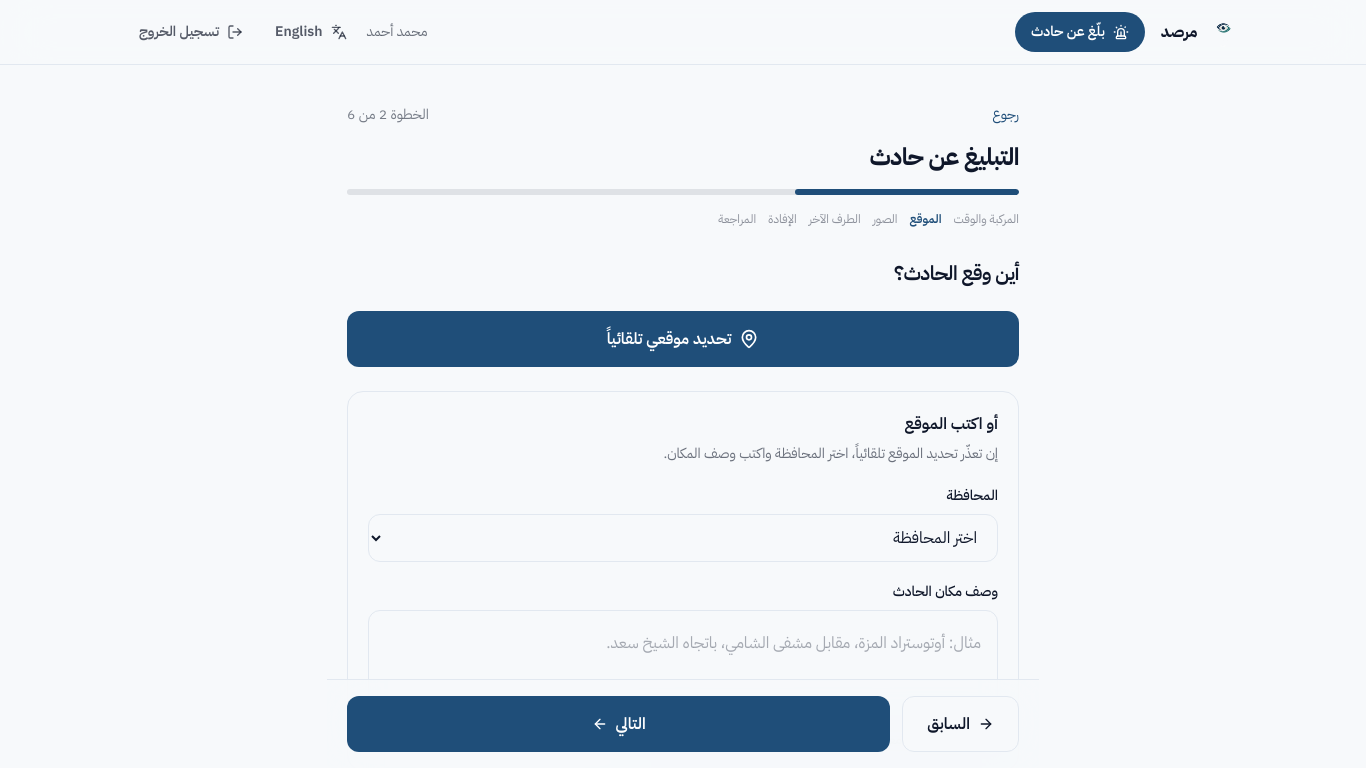
Test: ReportWizard › blocks the location step until a place is chosen
Click the button "التالي": (619, 724) [347,696,890,752]
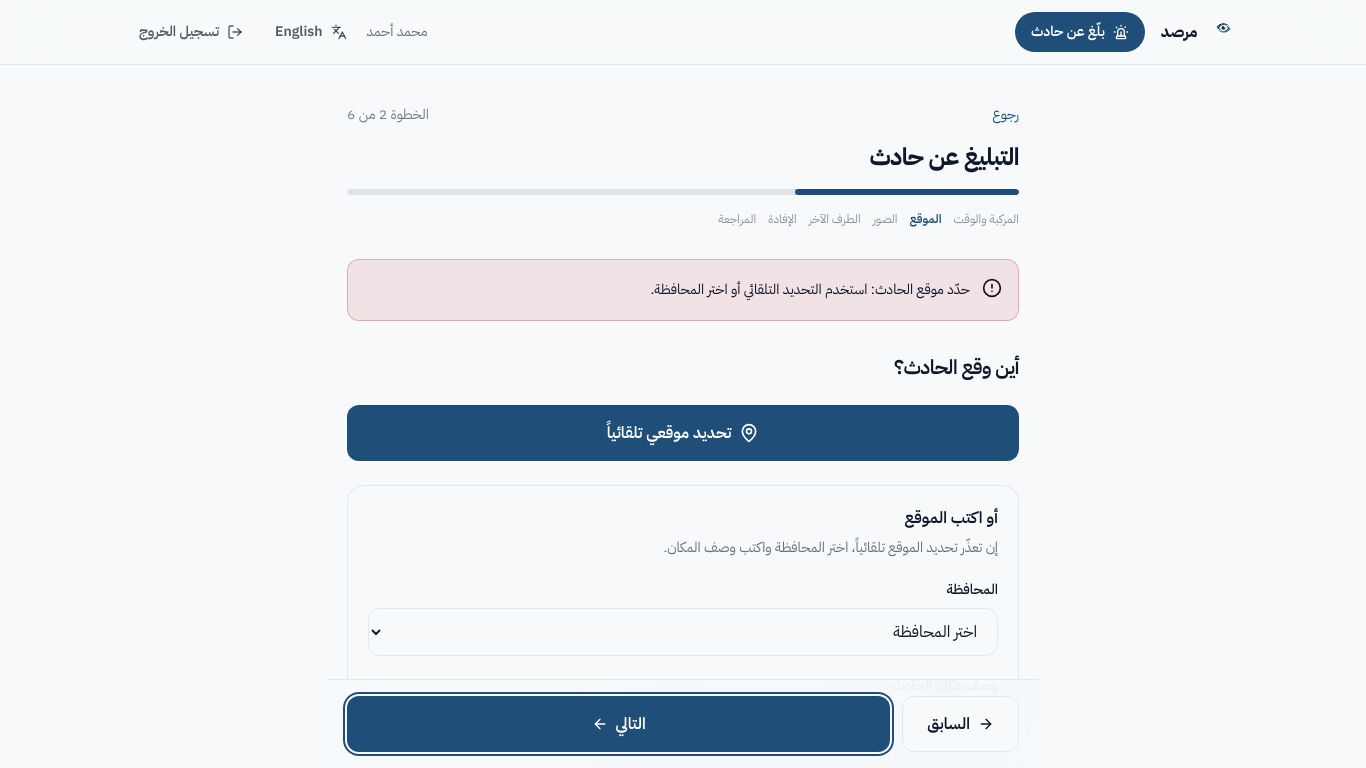
Expected: the text "حدّد موقع الحادث: استخدم التحديد التلقائي أو اختر المحافظة." is shown, [650,276,970,304]
Select "دمشق" in the dropdown labelled "المحافظة": (683, 632) [368,608,998,656]
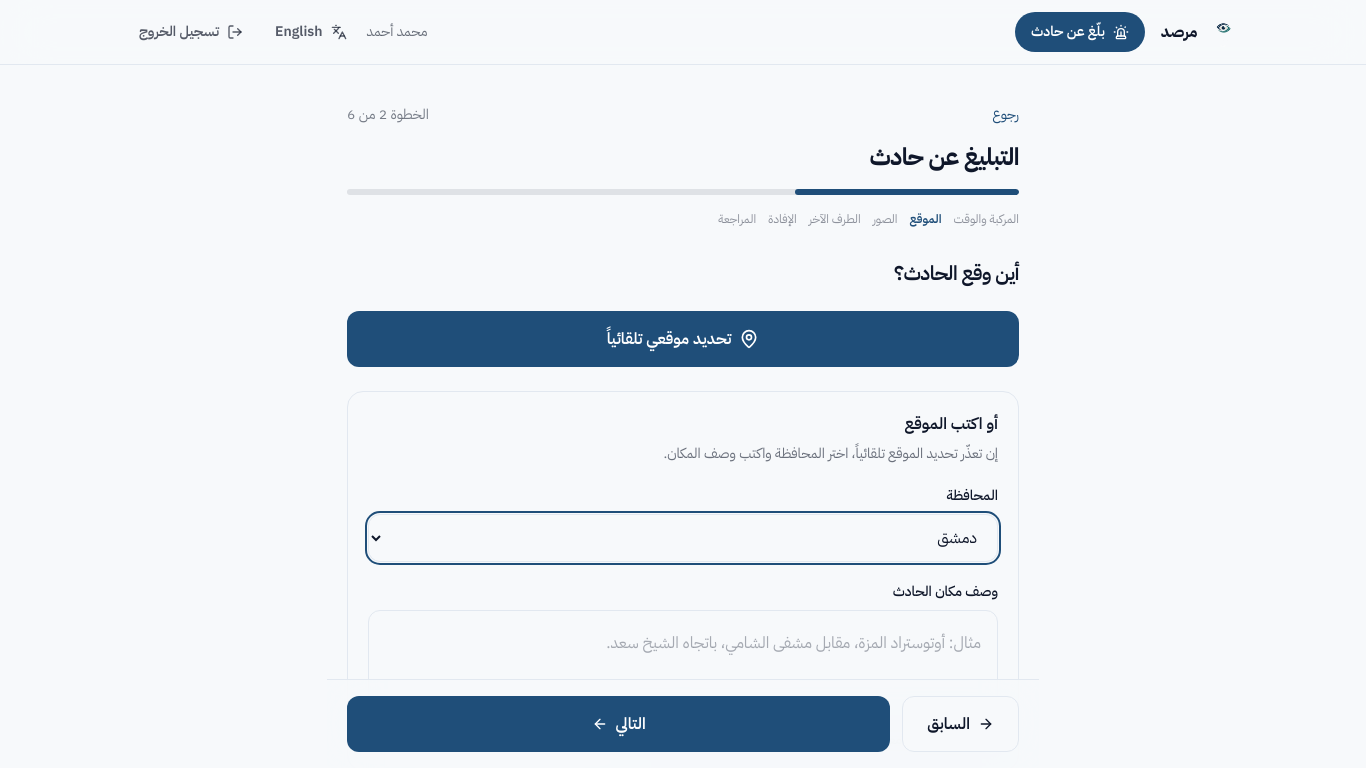
Click the button "التالي": (619, 724) [347,696,890,752]
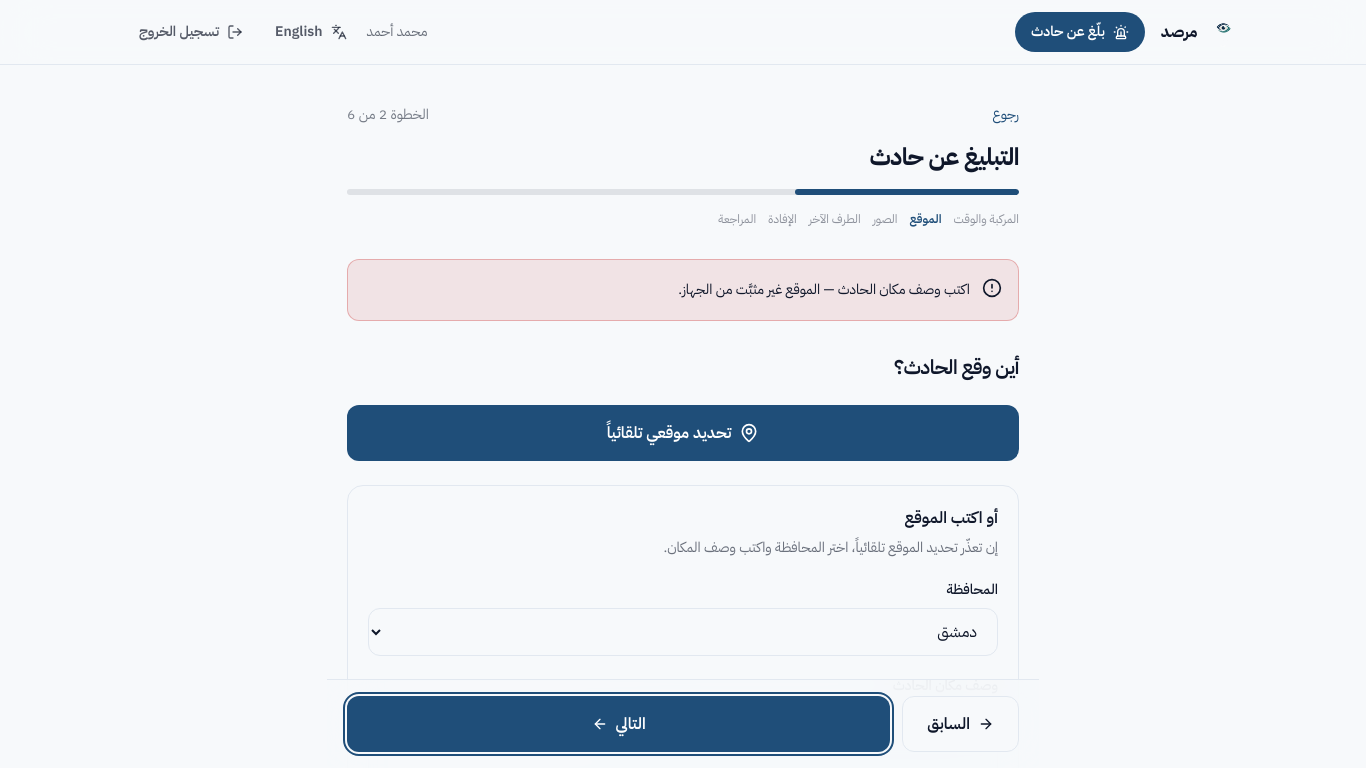
Expected: the text "اكتب وصف مكان الحادث — الموقع غير مثبَّت من الجهاز." is shown, [678,276,970,304]
